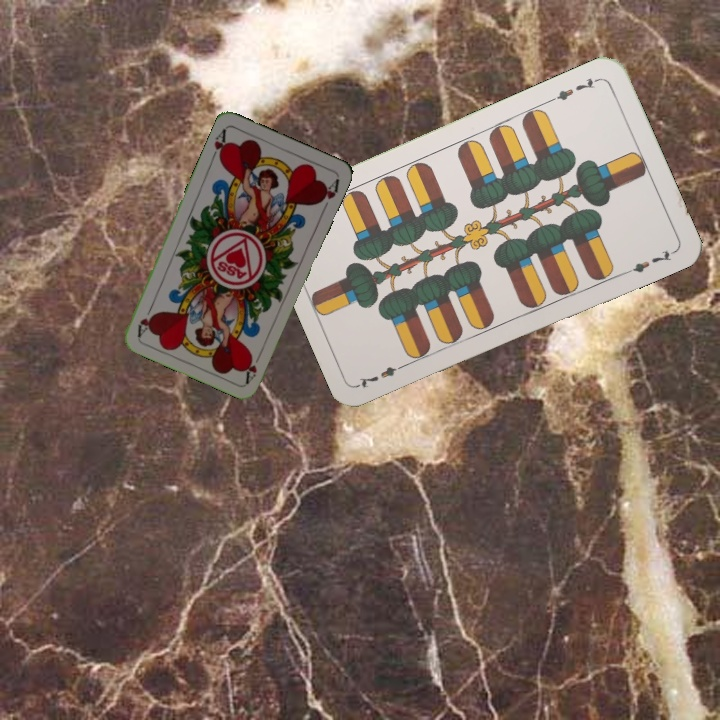E7: (354, 359, 411, 391), (546, 73, 602, 105)
HA: (207, 125, 231, 164), (241, 346, 265, 385)
